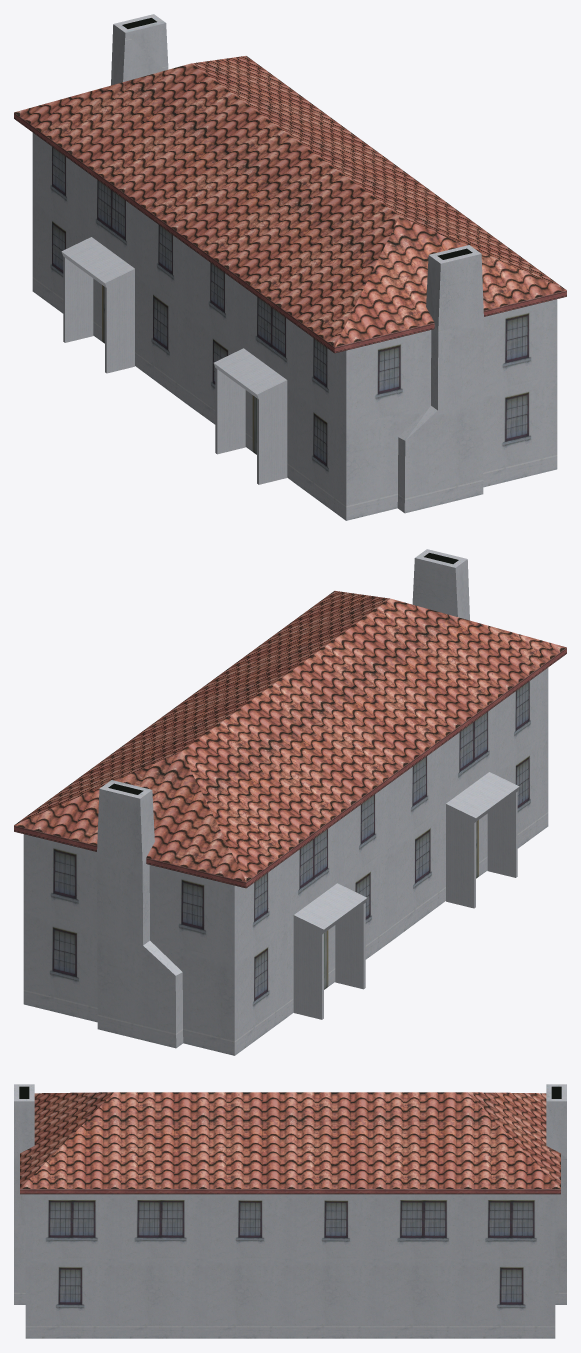
File: preshoosml02_sfn.obj
3 renders of one model, top to bottom at view 1: azimuth 30°, elevation 25°; view 2: azimuth 150°, elevation 25°; view 3: azimuth 270°, elevation 25°, orthographic. The views are drawn at different scales.
Visible parts, largest first — view 1: preshoosml02_SFN; view 2: preshoosml02_SFN; view 3: preshoosml02_SFN.
Part boxes in pixels (<box>): preshoosml02_SFN: <box>14,14,566,520</box>; preshoosml02_SFN: <box>14,549,566,1055</box>; preshoosml02_SFN: <box>14,1084,566,1338</box>.
Bounding box in the file's own units: 8.2 × 7.63 × 18.8.
7 materials, 7 textured.
